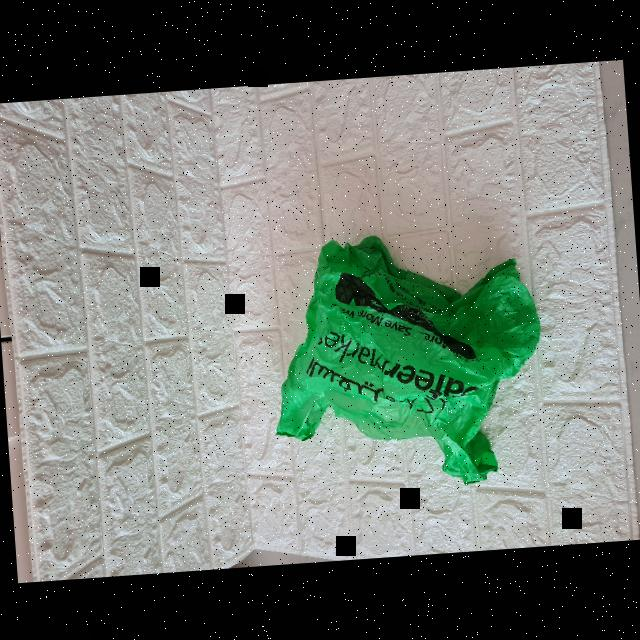plastic_bag: (259, 224, 546, 501)
